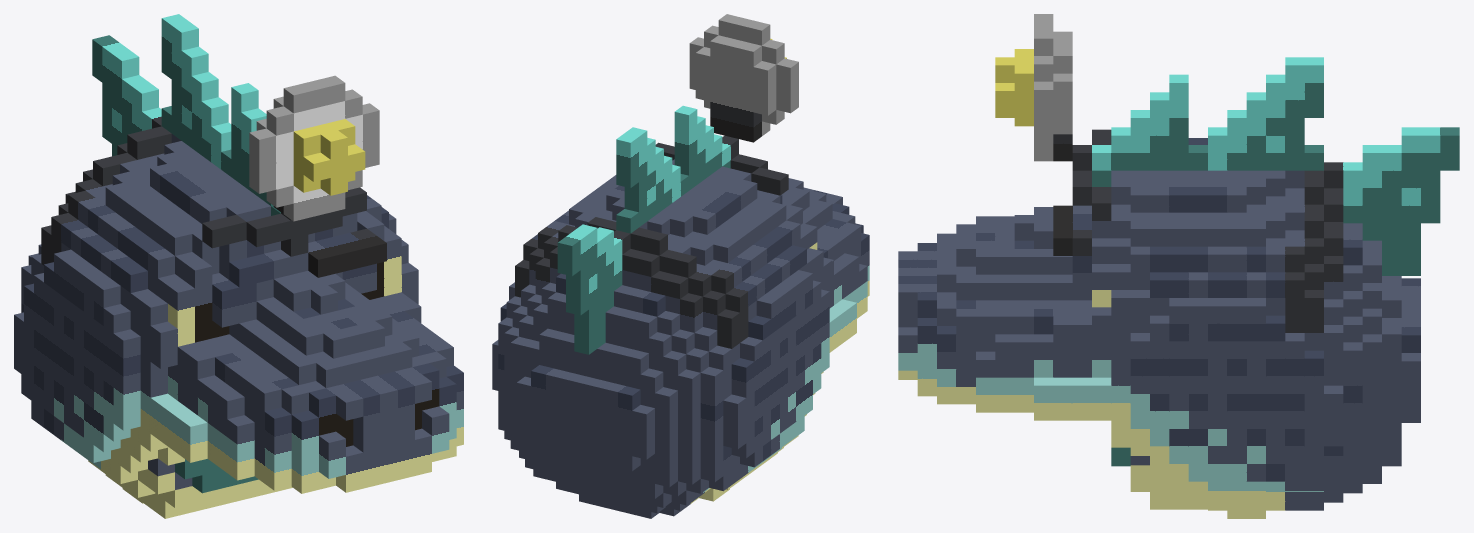
File: doctor_lazer light.gltf
The picture shows the model from 3 angles, left to right: view 1: azimuth 30°, elevation 25°; view 2: azimuth 150°, elevation 25°; view 3: azimuth 270°, elevation 25°; orthographic projection. The views are drawn at different scales.
Visible parts, largest first — view 1: C16_H_DoctorL_LazerL_VRGg-Mesh; view 2: C16_H_DoctorL_LazerL_VRGg-Mesh; view 3: C16_H_DoctorL_LazerL_VRGg-Mesh.
Part boxes in pixels (x1,y1,x2,y2): C16_H_DoctorL_LazerL_VRGg-Mesh: [14, 14, 463, 518]; C16_H_DoctorL_LazerL_VRGg-Mesh: [492, 14, 869, 518]; C16_H_DoctorL_LazerL_VRGg-Mesh: [898, 14, 1459, 518].
Bounding box in the file's own units: 17 × 26 × 29.
1 material, 1 textured.
